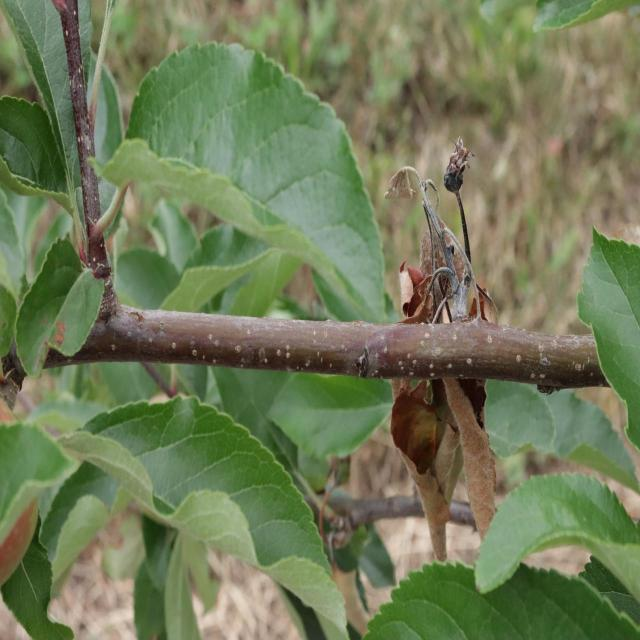-FireBlight-: (383, 176, 507, 544)
